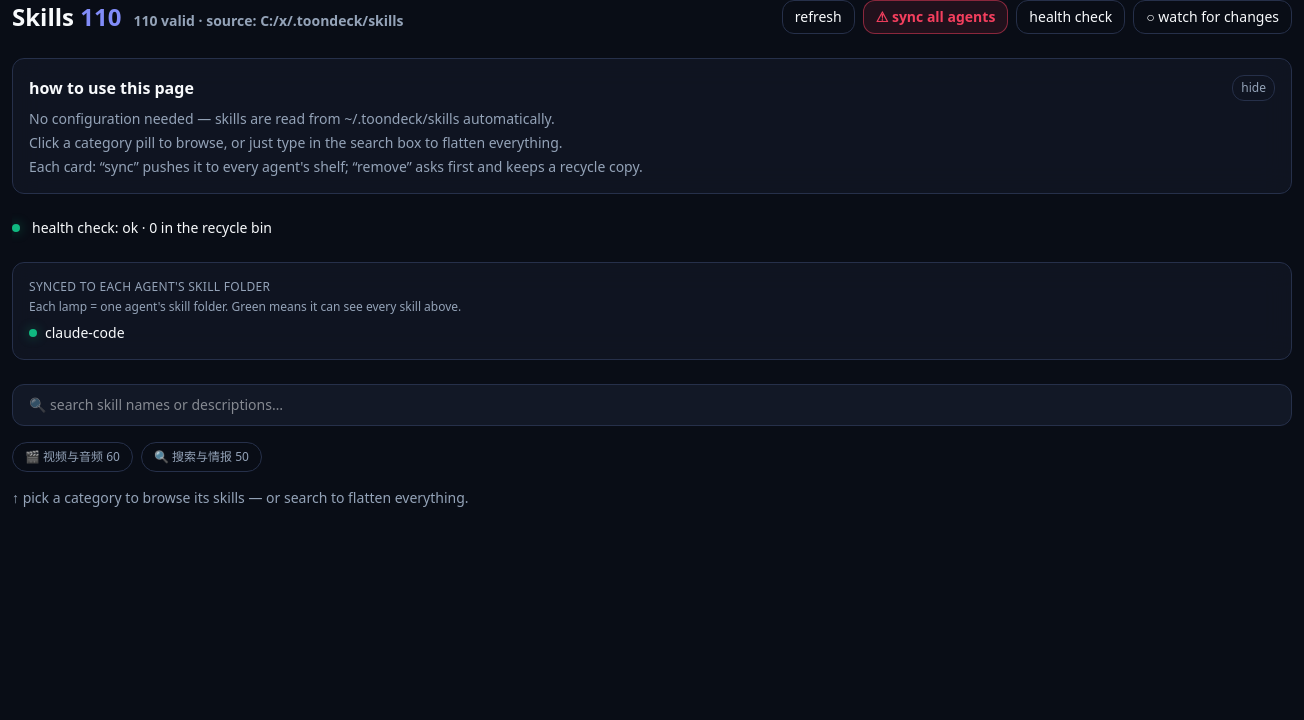
Test: N: progressive card windows › a 60-skill category opens with 24 cards + a show-more button for the rest
Click the button with test id "category-pill-🎬 视频与音频": (72, 457) [12, 442, 133, 472]
(page scrolled)
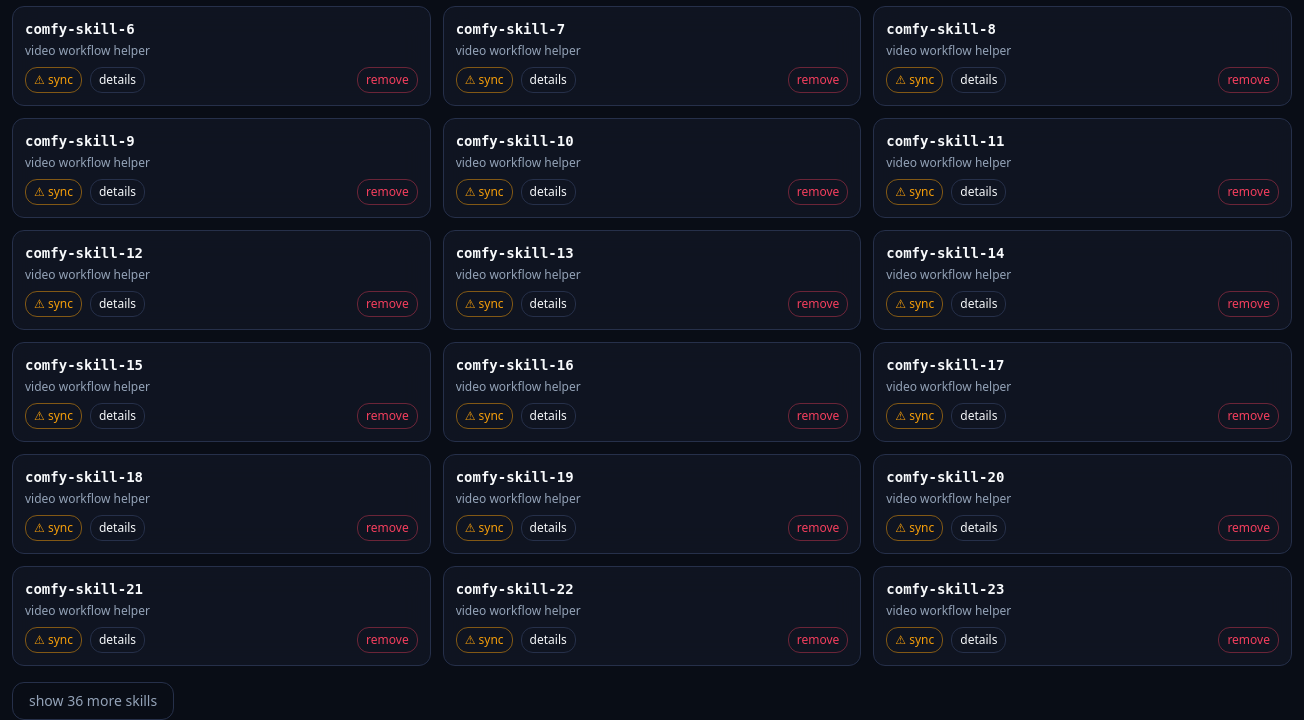
expect the button with test id "show-more-skills" shows "36": met, box [12, 682, 174, 719]
